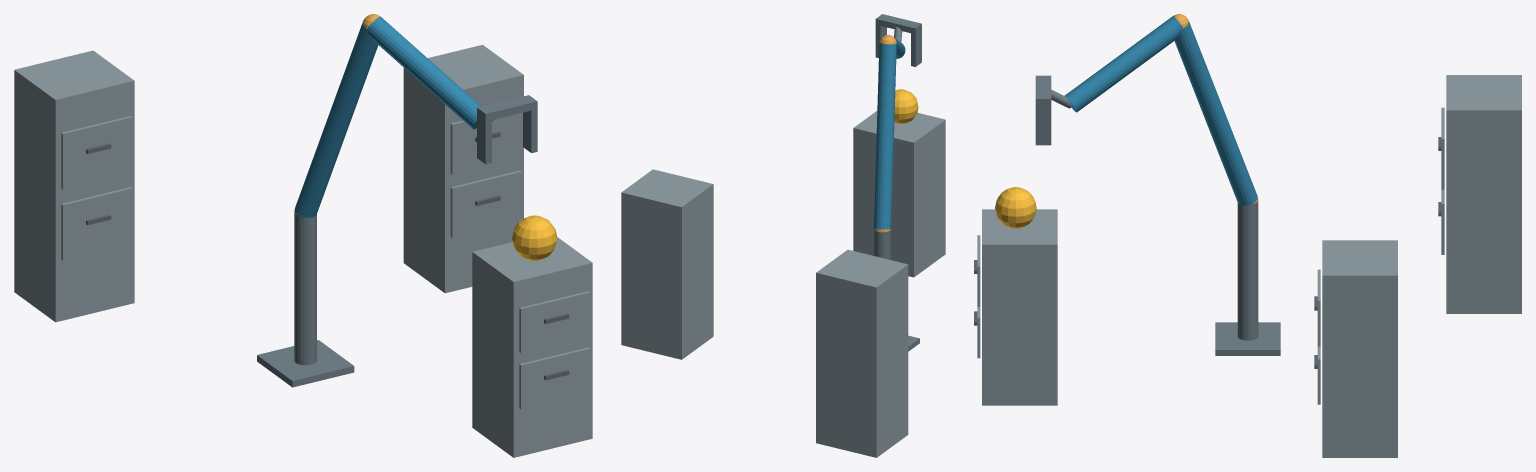
3 views of the same model, side by side, from view 1: azimuth 30°, elevation 25°; view 2: azimuth 150°, elevation 25°; view 3: azimuth 270°, elevation 25° (orthographic). The views are drawn at different scales.
Parts seen in each view (by area): view 1: cabinet_3 body, cabinet_1 body, cabinet_2 body, moving link 1, cabinet_3 drawer front, cabinet_3 drawer front.001, cabinet_2 drawer front, fixed post, moving link 2, cabinet_1 drawer front, cabinet_1 drawer front.001, cabinet_2 drawer front.001 (+5 smaller); view 2: cabinet_3 body, cabinet_2 body, cabinet_1 body, moving link 1, ball ball_1, gripper bridge, fixed post, gripper finger -1; view 3: cabinet_3 body, cabinet_2 body, cabinet_1 body, moving link 1, fixed post, moving link 2, pedestal, ball ball_1, gripper finger 1.
Boxes of the visible parts, left/top/right/bottom form: cabinet_3 body: left=14, top=50, right=134, bottom=322; cabinet_1 body: left=472, top=237, right=592, bottom=457; cabinet_2 body: left=403, top=44, right=523, bottom=293; moving link 1: left=294, top=22, right=378, bottom=217; cabinet_3 drawer front: left=61, top=187, right=132, bottom=260; cabinet_3 drawer front.001: left=61, top=116, right=132, bottom=189; cabinet_2 drawer front: left=450, top=170, right=521, bottom=238; fixed post: left=294, top=213, right=316, bottom=365; moving link 2: left=367, top=16, right=481, bottom=129; cabinet_1 drawer front: left=519, top=347, right=590, bottom=409; cabinet_1 drawer front.001: left=519, top=291, right=590, bottom=352; cabinet_2 drawer front.001: left=450, top=113, right=521, bottom=174; cabinet_3 body: left=816, top=249, right=908, bottom=457; cabinet_2 body: left=621, top=169, right=713, bottom=359; cabinet_1 body: left=853, top=111, right=945, bottom=277; moving link 1: left=874, top=43, right=896, bottom=229; ball ball_1: left=894, top=89, right=918, bottom=124; gripper bridge: left=875, top=14, right=921, bottom=34; fixed post: left=874, top=229, right=891, bottom=259; gripper finger -1: left=911, top=30, right=921, bottom=66; cabinet_3 body: left=1446, top=75, right=1521, bottom=313; cabinet_2 body: left=1322, top=240, right=1397, bottom=457; cabinet_1 body: left=982, top=209, right=1057, bottom=405; moving link 1: left=1174, top=21, right=1257, bottom=205; fixed post: left=1237, top=201, right=1258, bottom=340; moving link 2: left=1064, top=16, right=1183, bottom=112; pedestal: left=1215, top=322, right=1280, bottom=355; ball ball_1: left=995, top=187, right=1036, bottom=228; gripper finger 1: left=1035, top=106, right=1051, bottom=145.
Size of the model in its own units: 1.62 by 1.44 by 2.1.
